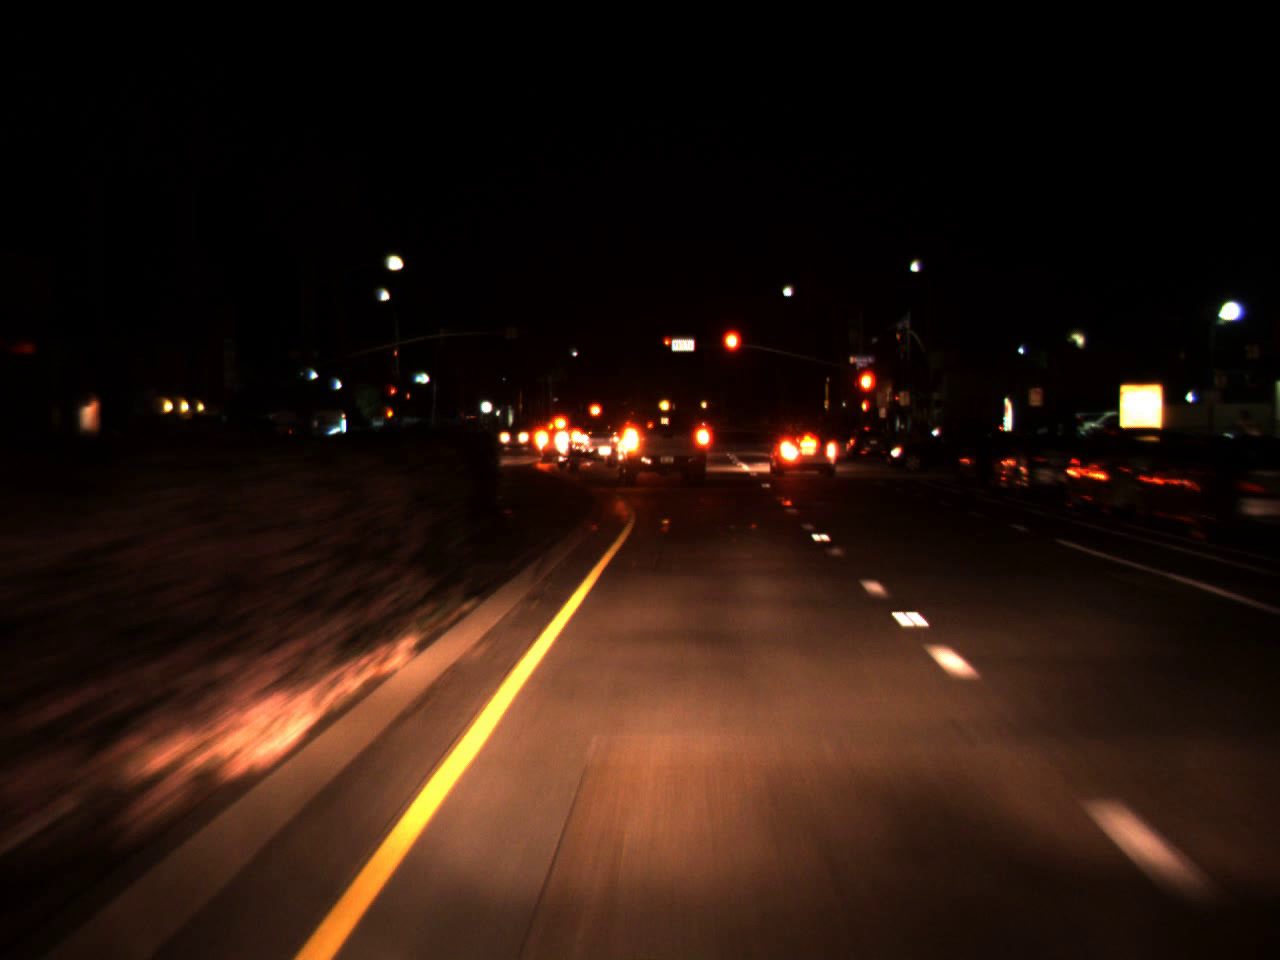stop: (855, 367, 879, 418), (720, 327, 744, 375), (663, 337, 673, 350), (389, 386, 396, 402)
